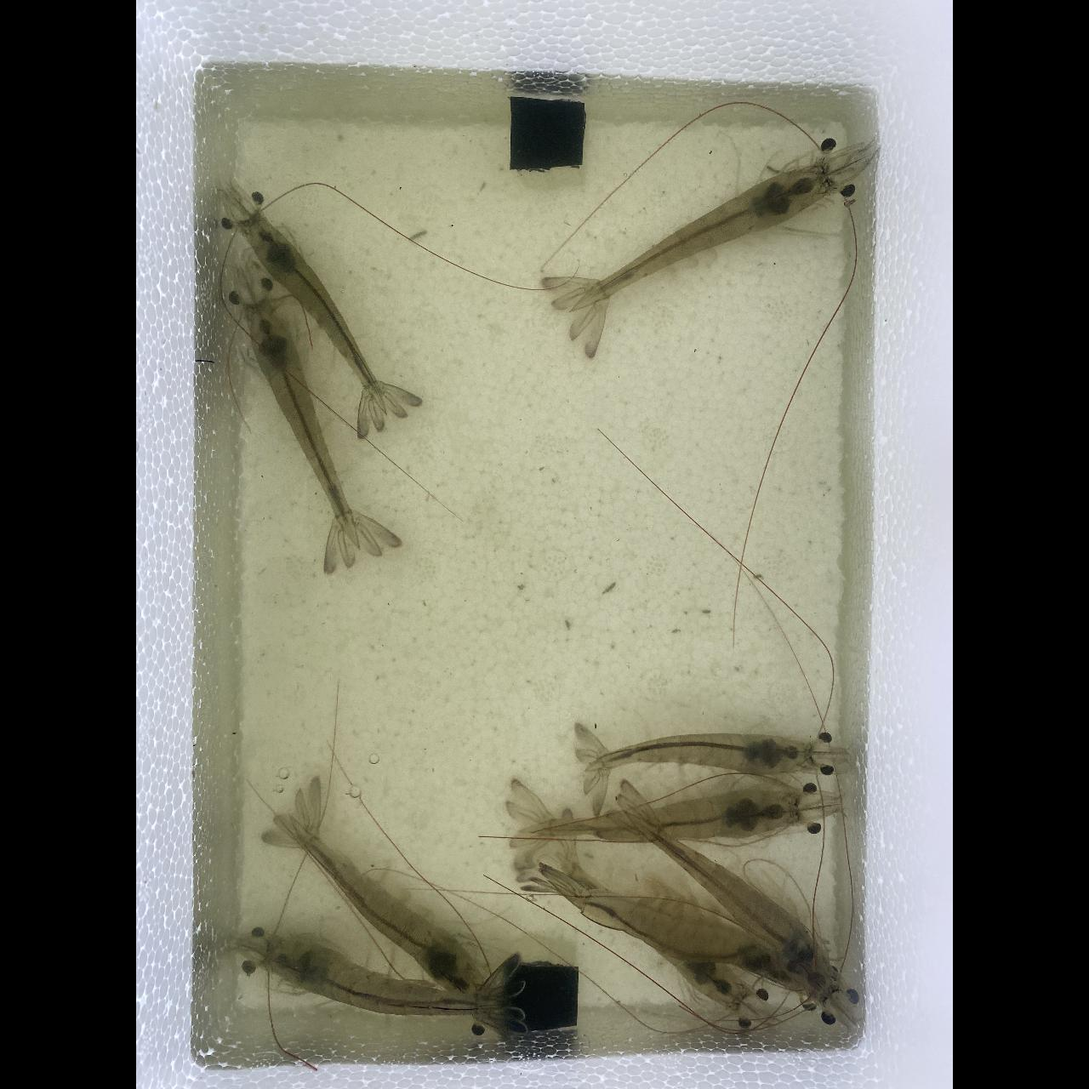box: (495, 963, 577, 1029), (510, 97, 584, 168)
top_shrimp: (626, 808, 834, 984), (286, 818, 488, 999), (572, 167, 825, 310), (549, 881, 809, 991), (248, 299, 359, 543), (560, 858, 745, 1003), (245, 218, 386, 407), (271, 942, 508, 1016), (526, 790, 795, 839), (596, 737, 810, 774)
